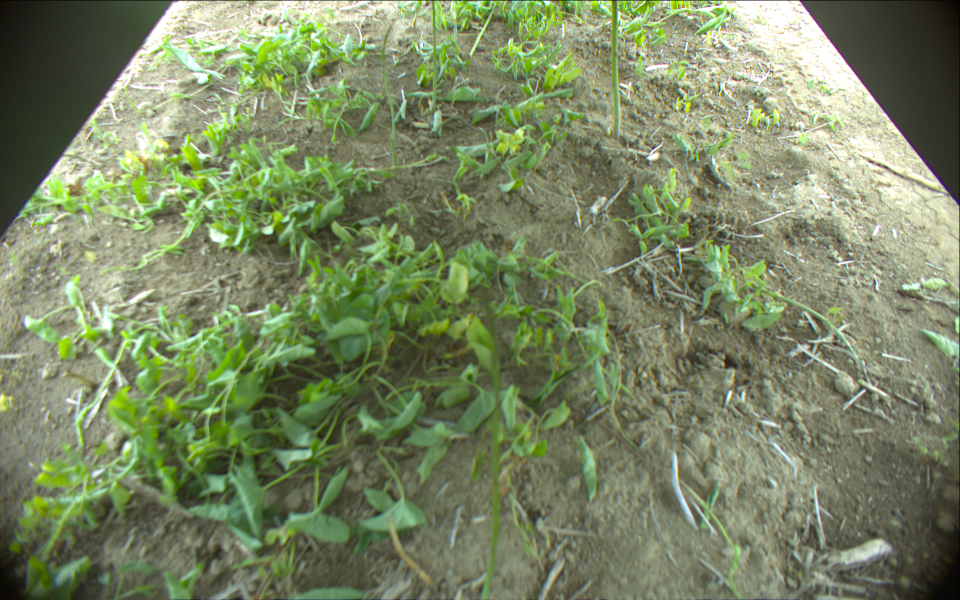aspa: (476, 284, 502, 600), (381, 20, 398, 172), (469, 1, 497, 57), (611, 1, 622, 141), (428, 1, 439, 113)
